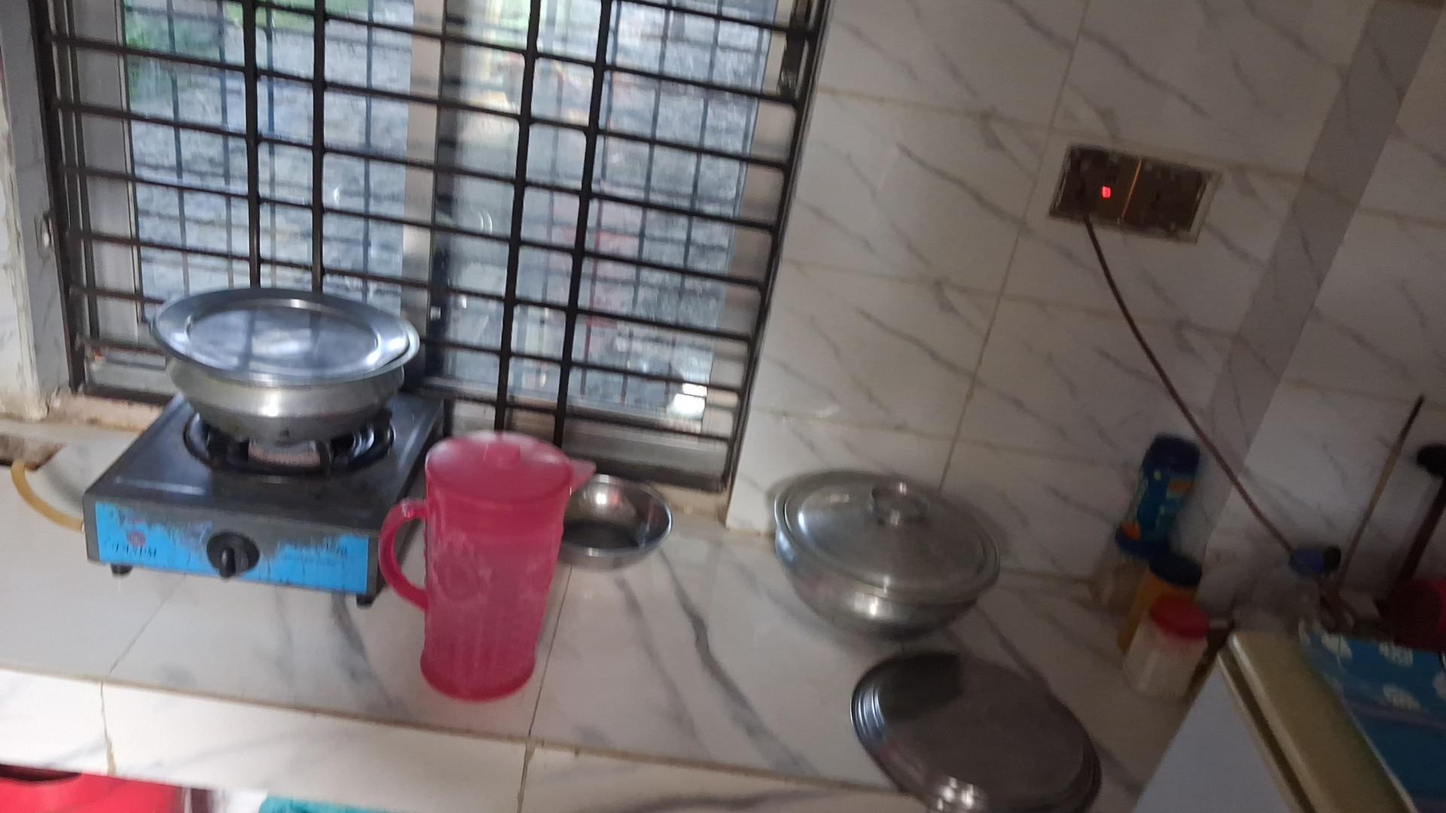Bowl: (559, 474, 673, 571)
Jar: (1119, 591, 1208, 696), (1131, 421, 1198, 556)
Jug: (378, 430, 582, 703)
Plate: (854, 650, 1094, 810)
Pot: (145, 281, 420, 453), (774, 467, 1003, 643)
